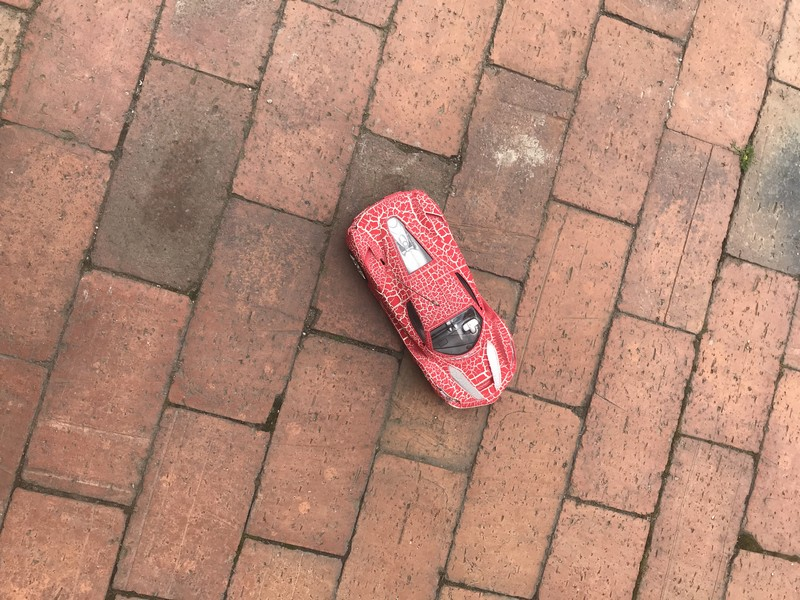RC: (344, 188, 523, 412)
